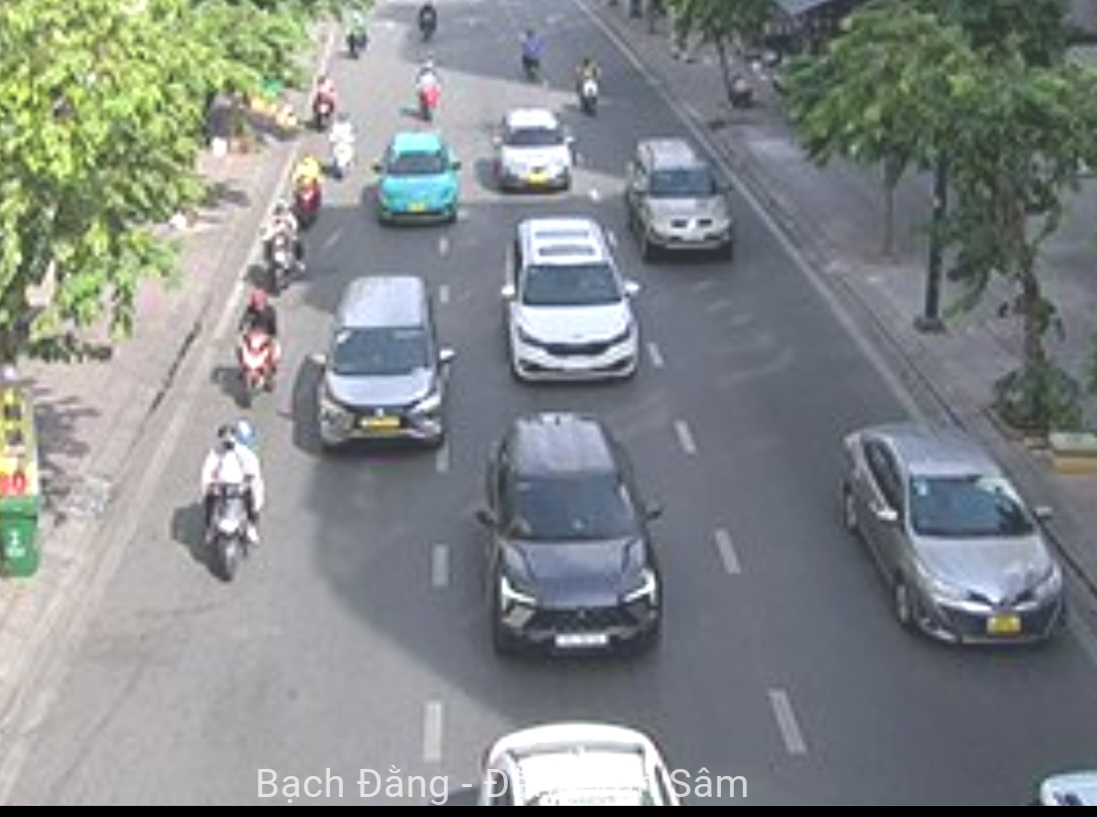car: (837, 427, 1065, 652), (473, 414, 665, 663), (492, 218, 650, 387), (316, 284, 458, 448), (628, 143, 735, 254), (368, 128, 465, 227), (491, 108, 573, 194)
